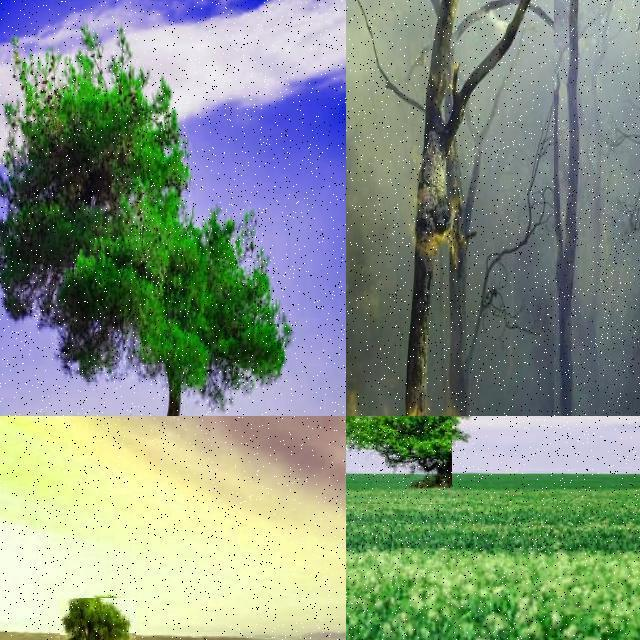tree: (0, 4, 290, 416), (554, 0, 640, 416), (346, 416, 452, 504), (60, 598, 136, 640)
